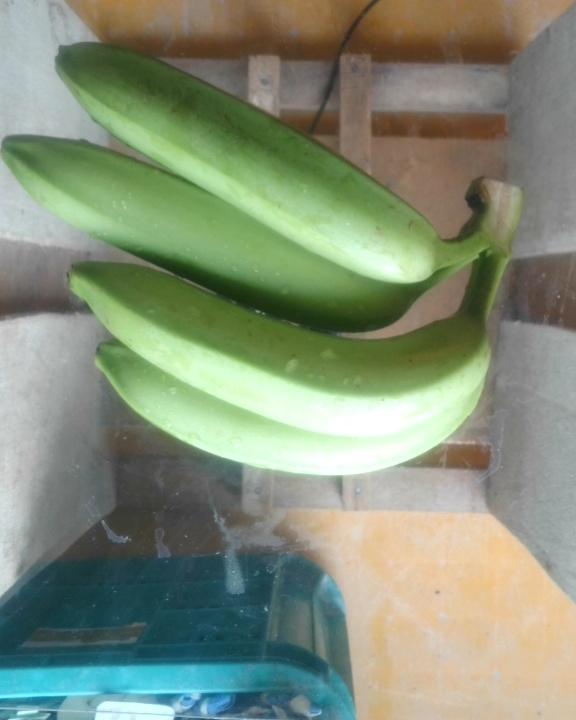SPOT: (1, 37, 504, 476)
